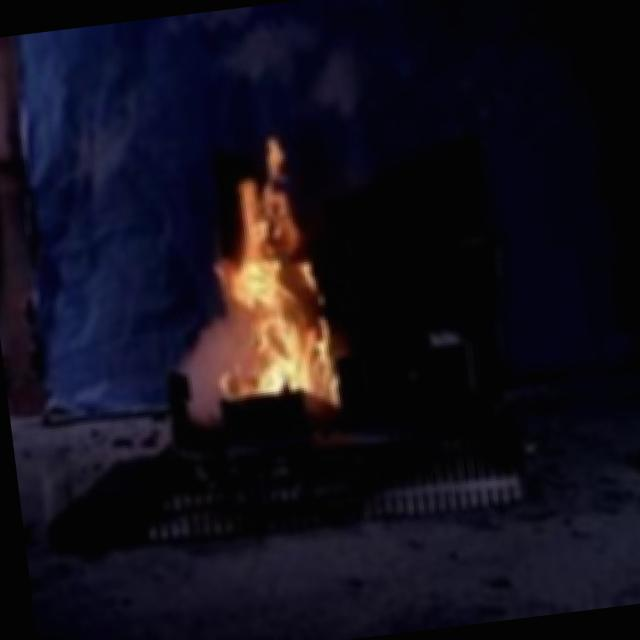fire: (164, 126, 358, 430)
